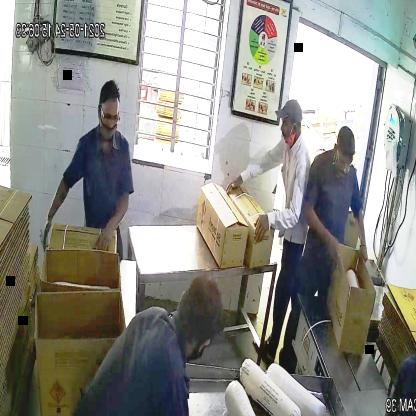goggles: (334, 151, 356, 174), (98, 106, 122, 127)
no_goggles: (282, 115, 302, 132)
